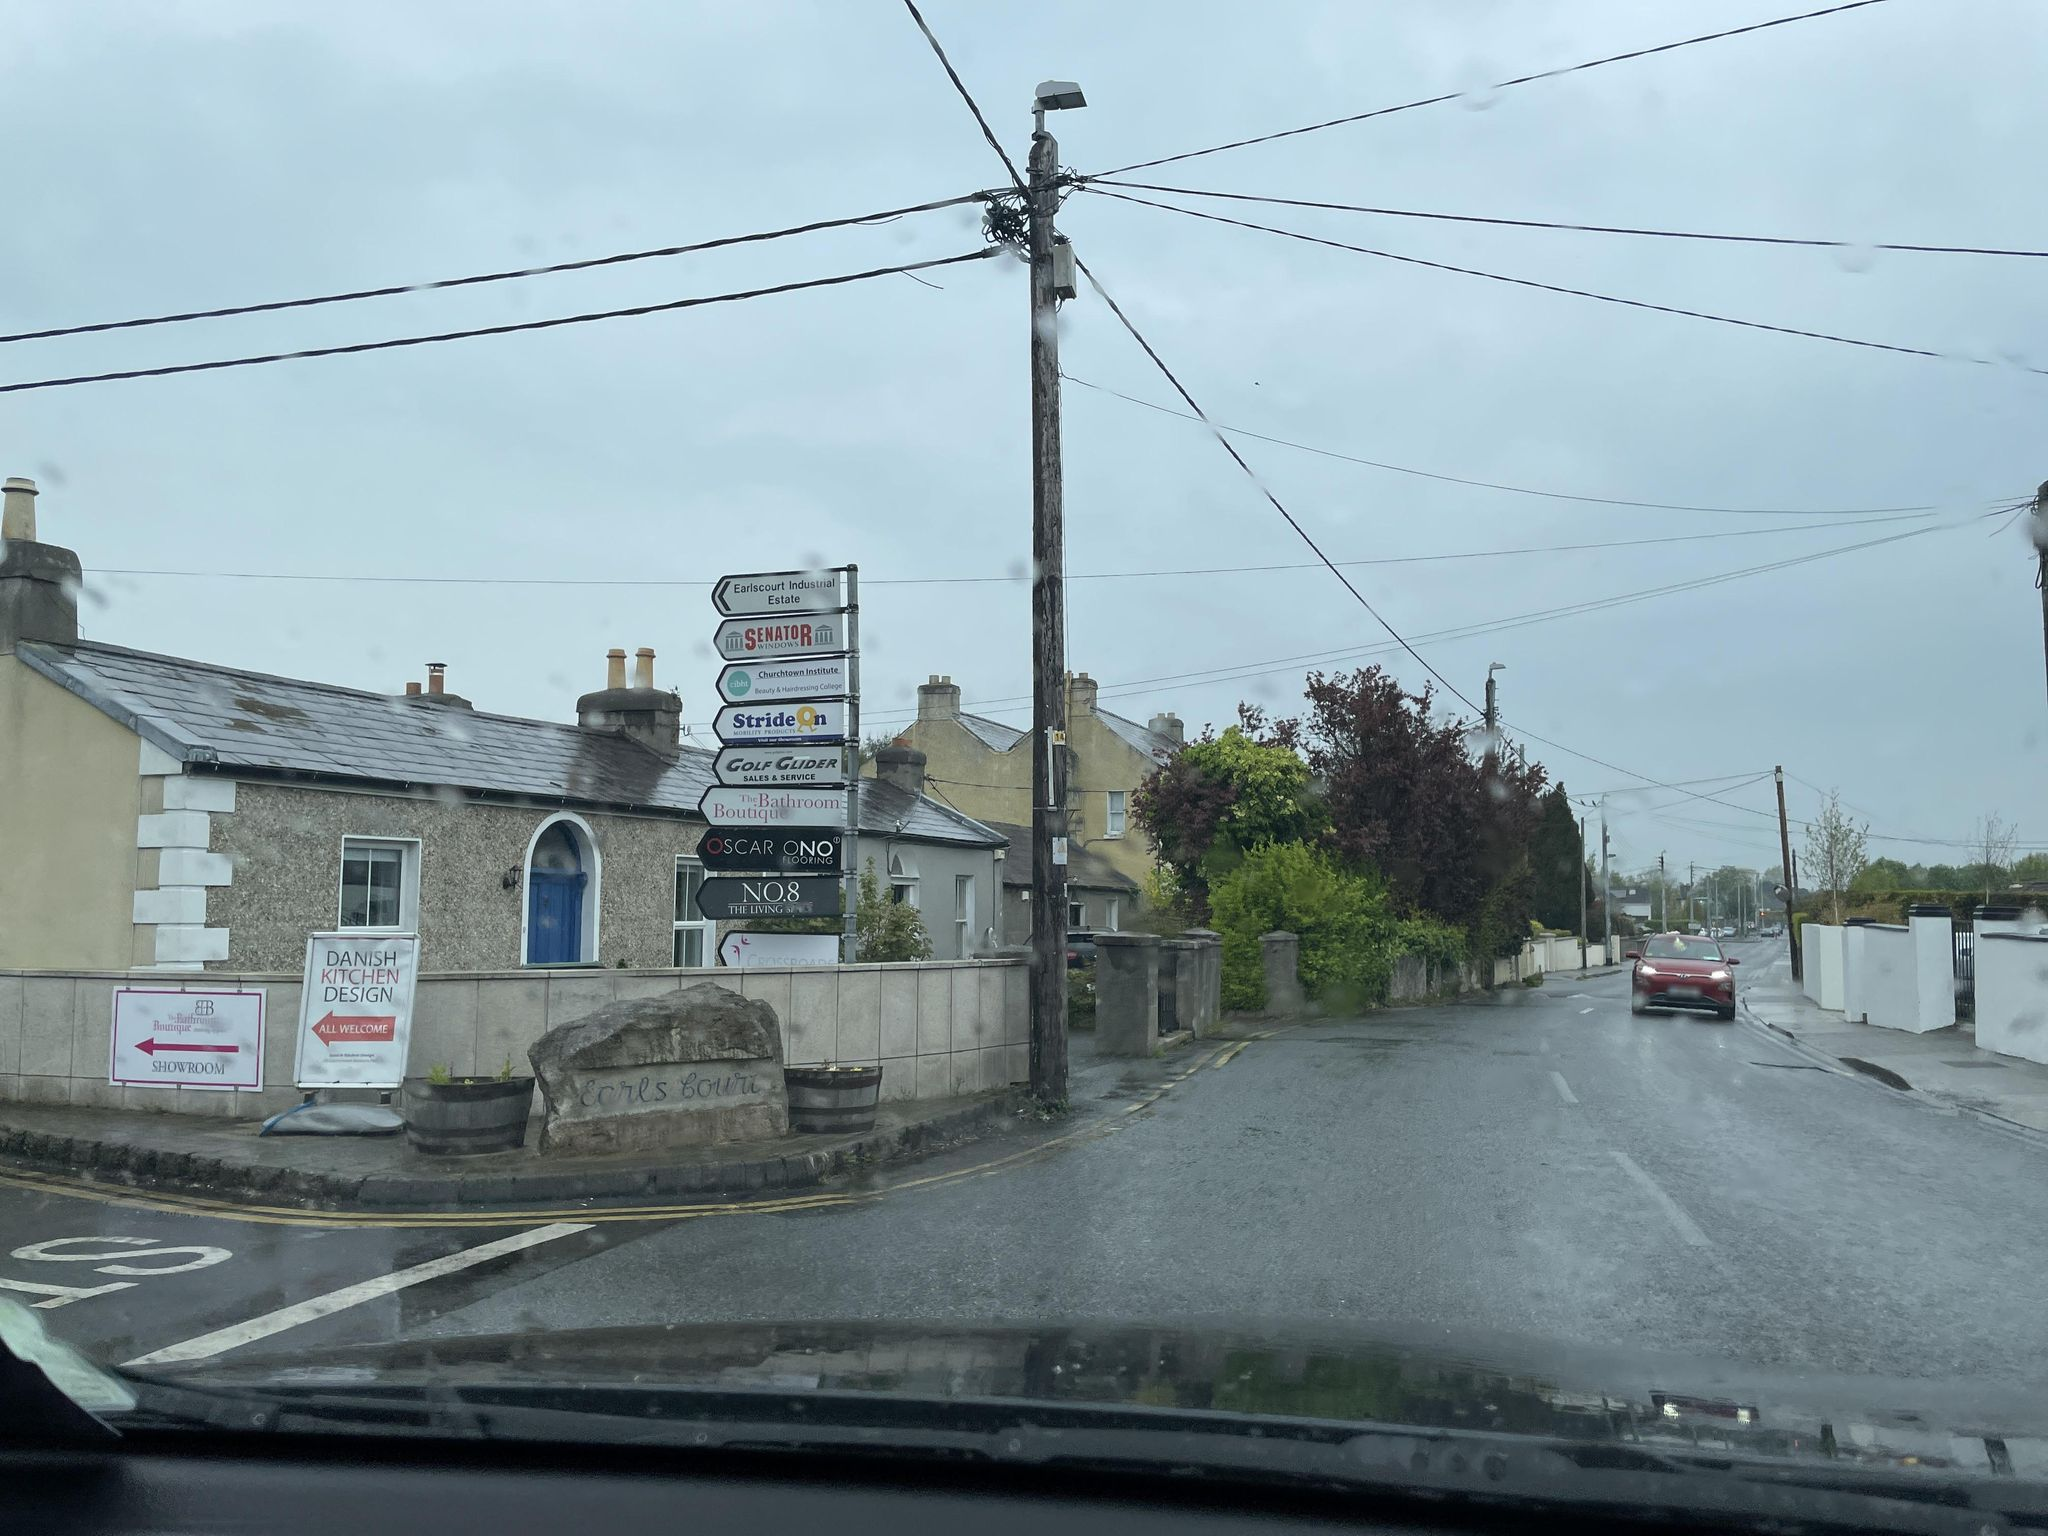vinyl banner: (97, 965, 274, 1105)
